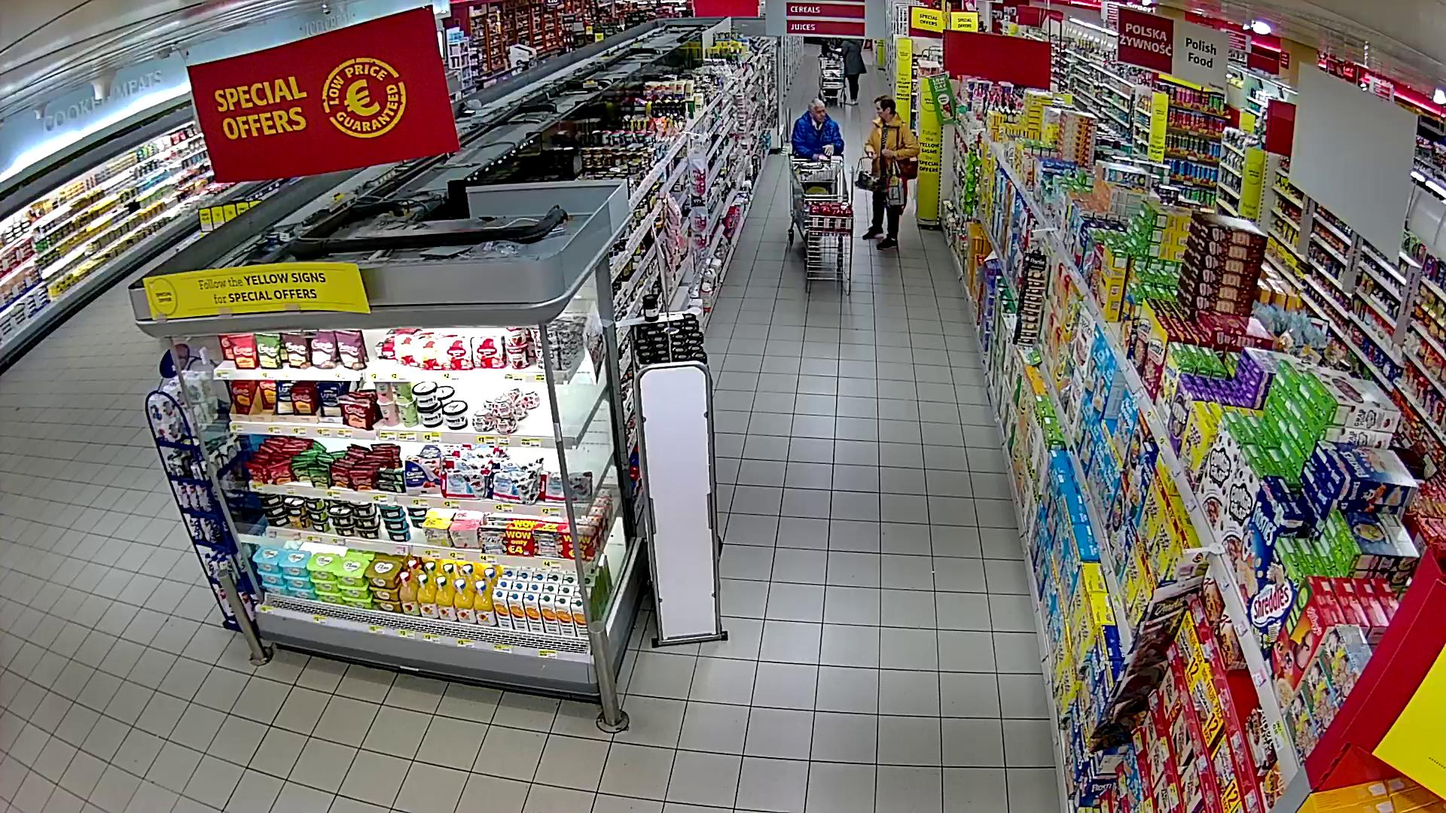backpack-or-handbag: (896, 155, 919, 180)
filled-basket: (854, 153, 886, 191)
filled-trolly: (787, 152, 849, 267)
person: (863, 95, 920, 249), (792, 97, 844, 159)
person-with-basket-trolly-and-backpack-handbag: (854, 94, 921, 250)
person-with-filled-basket-trolly: (787, 96, 849, 266)
